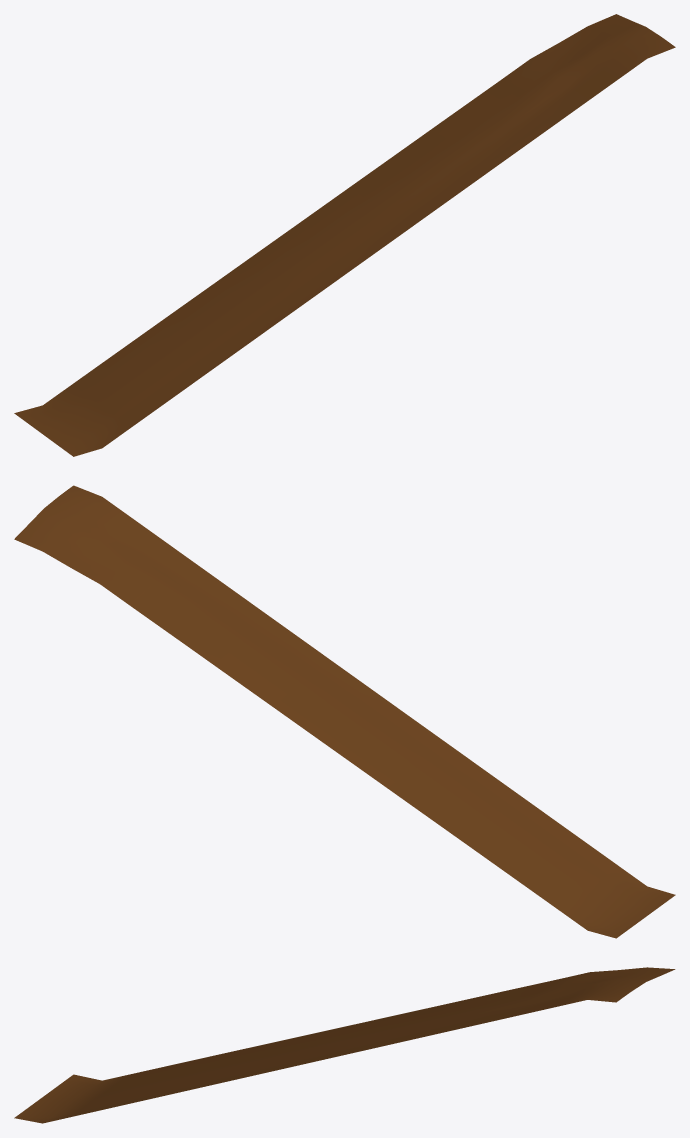
3 renders of one model, top to bottom at view 1: azimuth 30°, elevation 25°; view 2: azimuth 150°, elevation 25°; view 3: azimuth 330°, elevation 25°, orthographic.
Visible parts, largest first — view 1: prototype; view 2: prototype; view 3: prototype.
Part boxes in pixels (x1,y1,x2,y2): prototype: [14, 14, 675, 456]; prototype: [14, 485, 675, 938]; prototype: [14, 967, 675, 1123].
Size of the model in its own units: 21 by 8.75 by 3.6.
